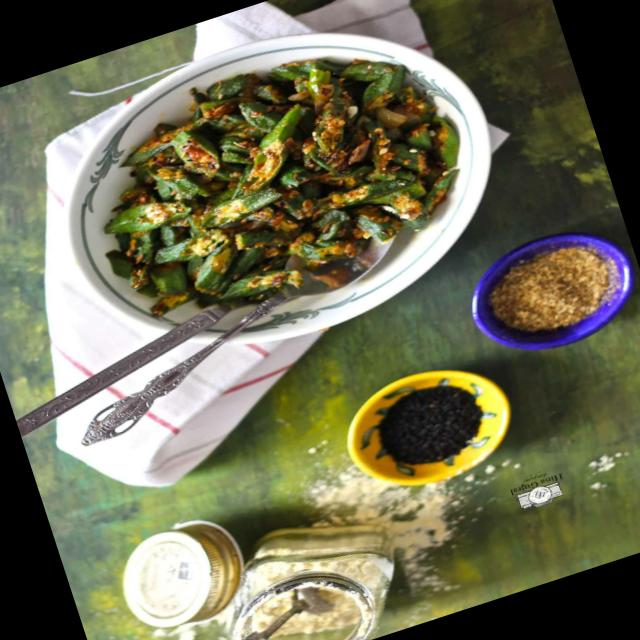BhindiMasala: (61, 11, 492, 356)
